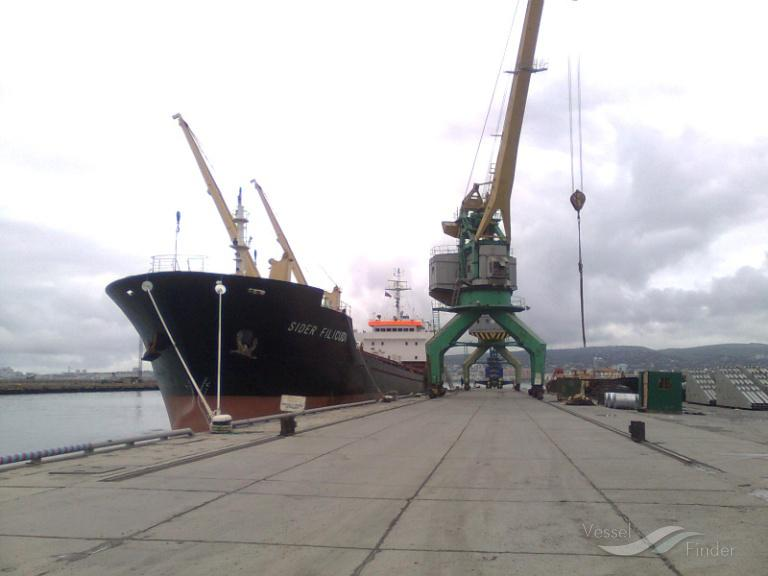OCR: (282, 315, 355, 348)
